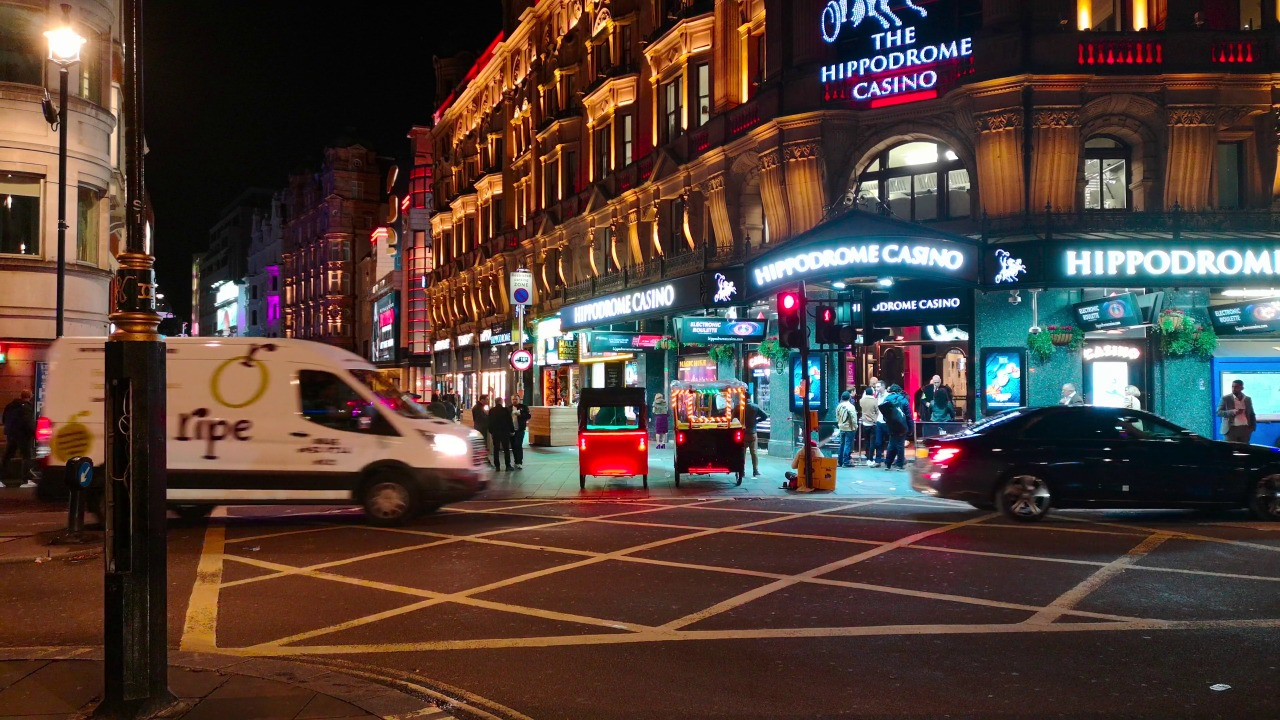car: (39, 332, 492, 532), (911, 403, 1280, 528), (573, 379, 657, 496), (672, 373, 752, 491)
person: (1, 386, 43, 492), (733, 392, 772, 481), (783, 438, 835, 493), (1217, 379, 1258, 443), (882, 386, 910, 471), (489, 397, 515, 472), (836, 391, 860, 468), (471, 394, 493, 475), (857, 387, 882, 456), (924, 389, 958, 435), (510, 394, 529, 473), (651, 391, 671, 452), (1053, 381, 1080, 409), (1121, 383, 1143, 413), (426, 394, 447, 420), (439, 396, 460, 422), (920, 373, 947, 393), (841, 384, 860, 402), (865, 375, 883, 391), (873, 377, 884, 392)
